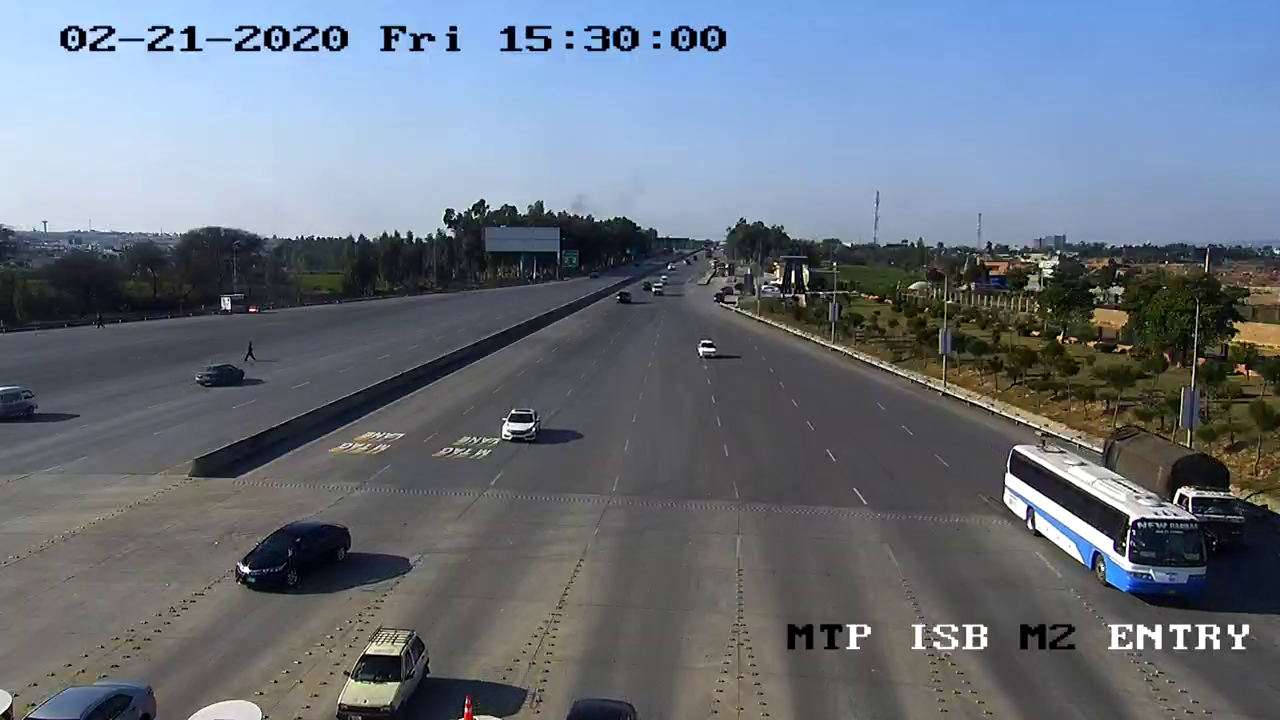f1: (317, 615, 449, 715), (225, 509, 360, 593), (497, 397, 549, 451)
f4: (988, 431, 1220, 612)
